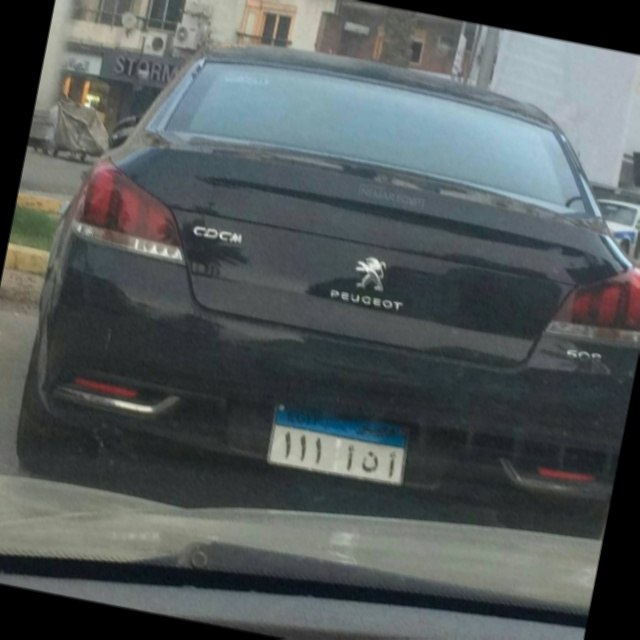License Plate: (260, 399, 418, 494)
